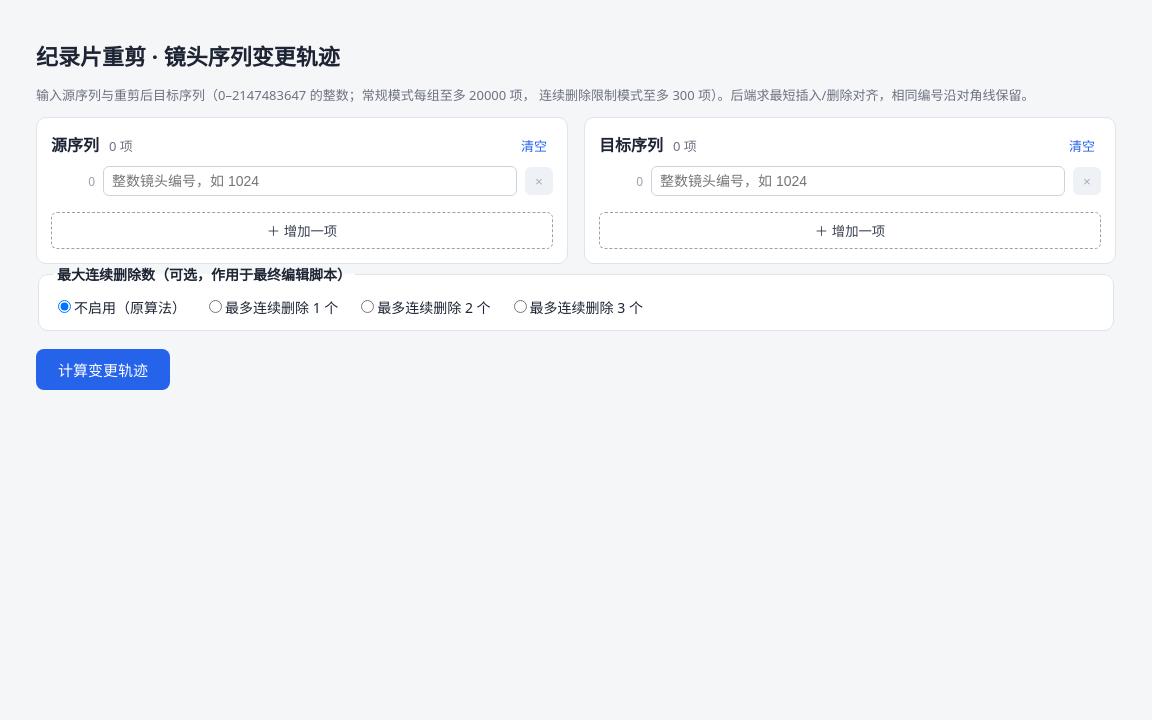
Test: App 连续提交 › 先成功、再提交非法输入：旧轨迹必须消失，只显示当前错误
// 初始空数组即合法：第一次提交成功并展示轨迹。
Click the button with test id "compare".
click(103, 370)  # box [36,350,170,390]
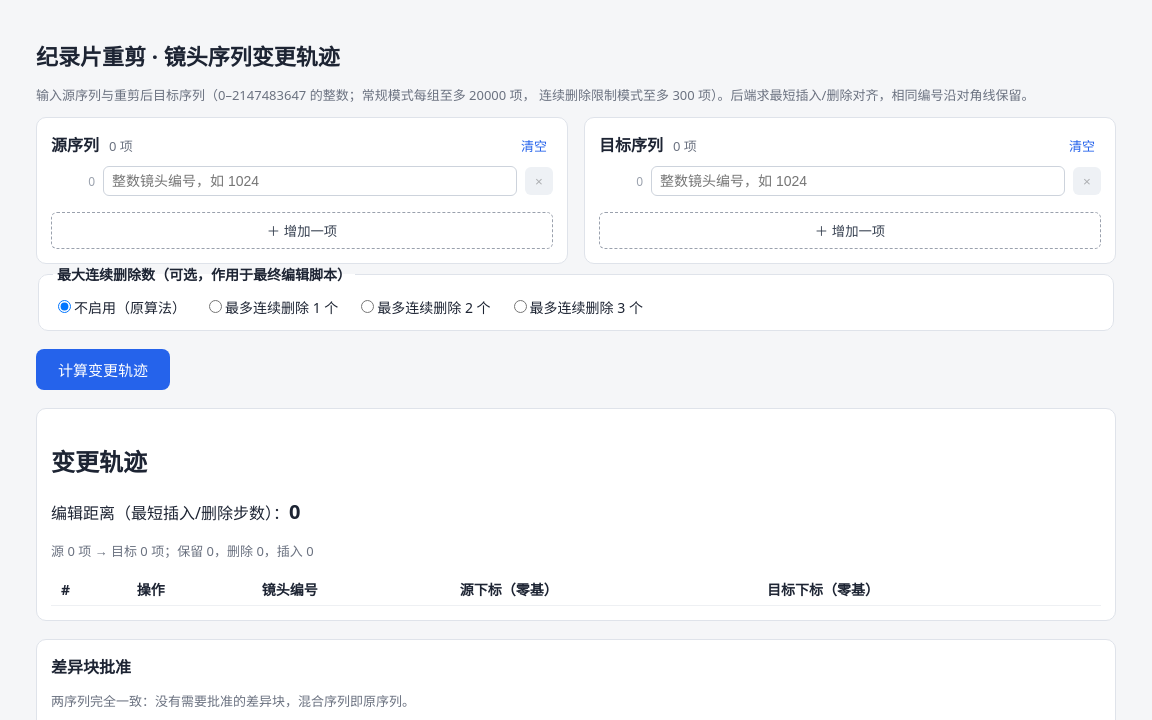
Result: the element with test id "result-view" is shown at [36,408,1116,621]
Type "3.5" into the field named "源序列第 0 项".
click(310, 182); type("3.5")  # box [103,166,517,196]
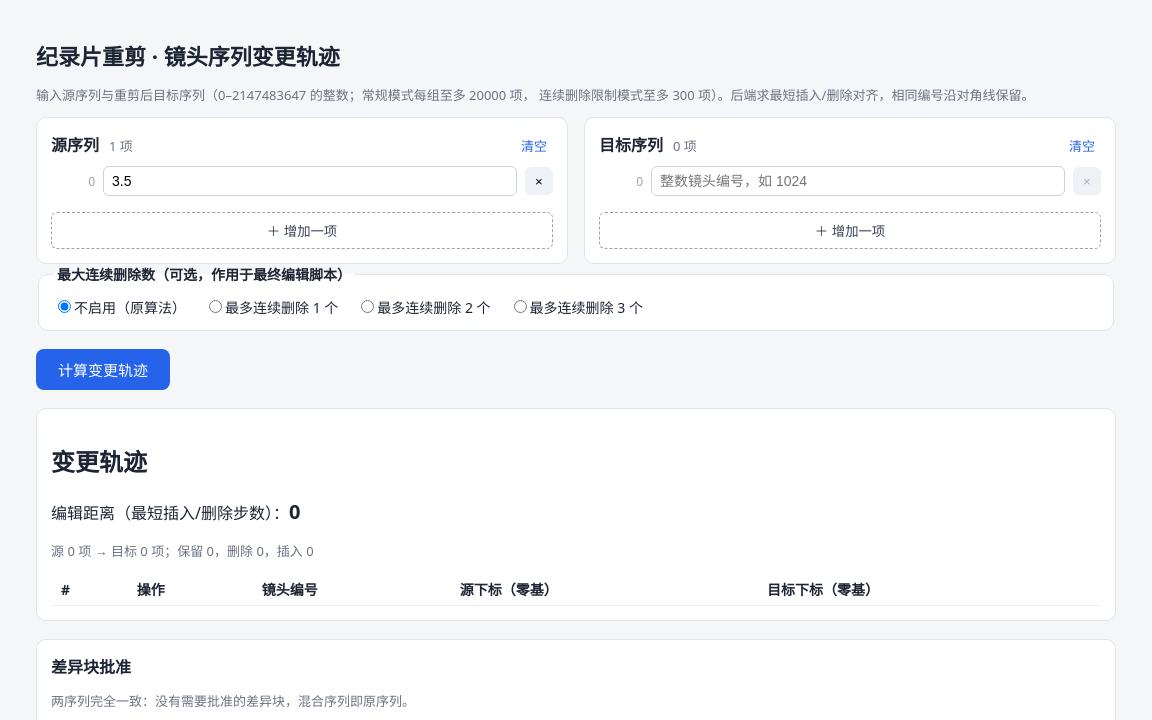
Click the button with test id "compare".
click(103, 370)  # box [36,350,170,390]
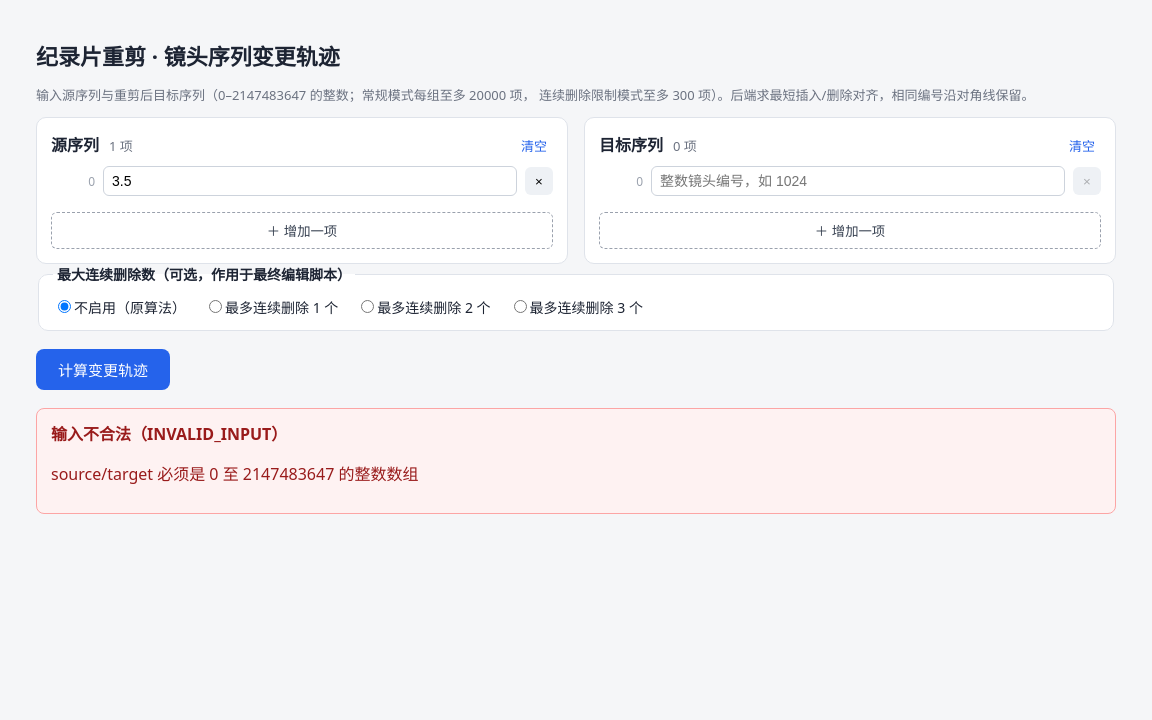
Result: the message "输入不合法（INVALID_INPUT） source/target 必须是 0 至 2147483647 的整数数组" is shown at [36,408,1116,514]
Result: the element with test id "result-view" is gone
